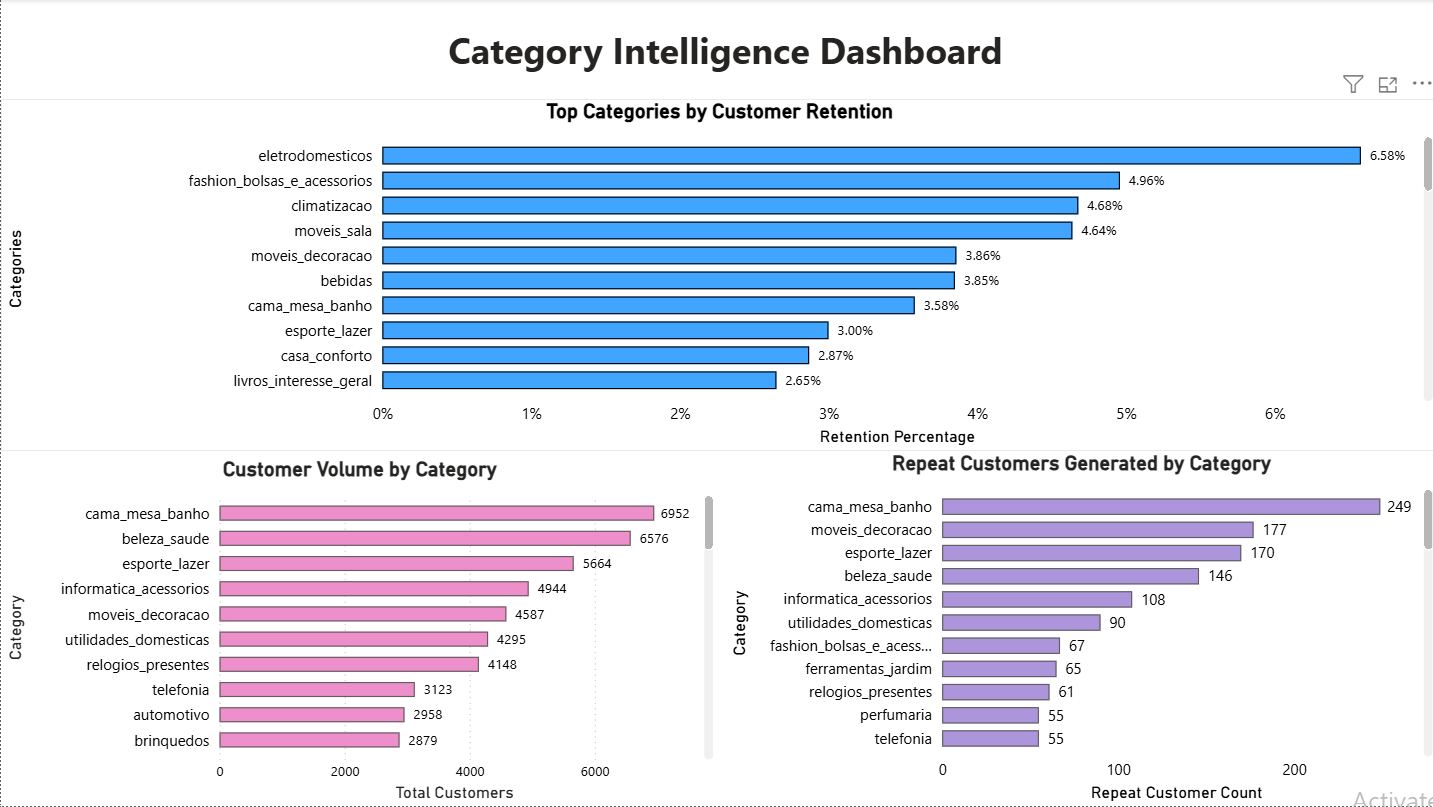

What the dashboard file says about the page in this screenshot:
{"tool":"powerbi","page":{"name":"Page 3","canvas":[1280,720],"ordinal":2},"visuals":[{"type":"textbox","box":[10.1,18.9,1270.2,60.5],"z":0},{"type":"barChart","title":"Top Categories by Customer Retention","fields":{"Category":["Category Retention.category"],"Y":["Sum(Category Retention.retention_pct)"]},"box":[0,89,1280.3,314],"z":1000},{"type":"barChart","title":"Customer Volume by Category","fields":{"Category":["Category Retention.category"],"Y":["Sum(Category Retention.total_customers)"]},"box":[0,403,639.5,316.6],"z":1001},{"type":"barChart","title":"Repeat Customers Generated by Category","fields":{"Category":["Category Retention.category"],"Y":["Sum(Category Retention.repeat_customers)"]},"box":[644.6,403,635.7,316.6],"z":1002}]}

Visuals, with their boxes on the page's 1280x720 design canvas (x1, y1, x2, y2). These are canvas units, not pixel positions in the 1433x807 screenshot, which may show the page scaled, cropped or inside an application window:
textbox: bbox=[10, 19, 1280, 79]
"Top Categories by Customer Retention" barChart: bbox=[0, 89, 1280, 403]
"Customer Volume by Category" barChart: bbox=[0, 403, 640, 720]
"Repeat Customers Generated by Category" barChart: bbox=[645, 403, 1280, 720]
